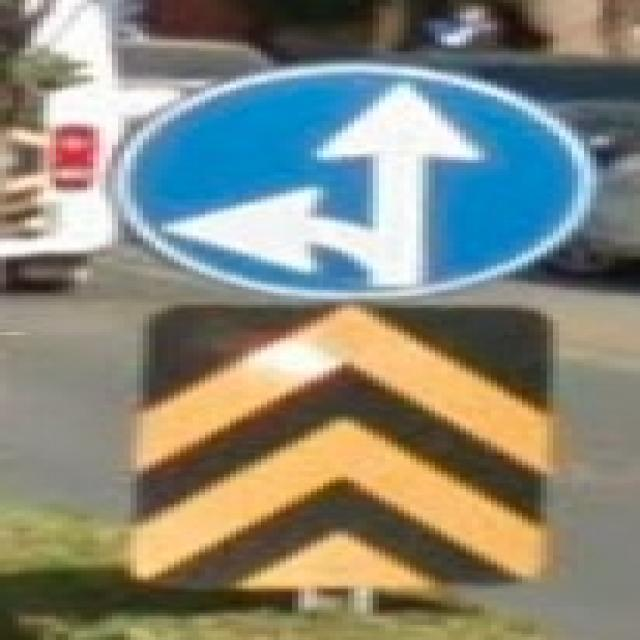Straight or Left: (113, 66, 591, 298)
